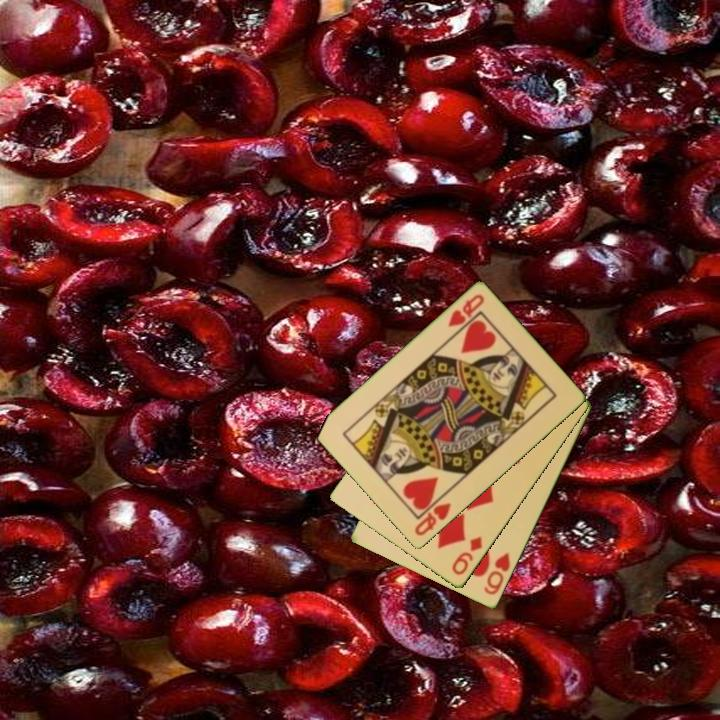6h: (480, 549, 513, 598)
9d: (448, 533, 485, 578)
Qh: (411, 491, 454, 539), (445, 291, 487, 330)
